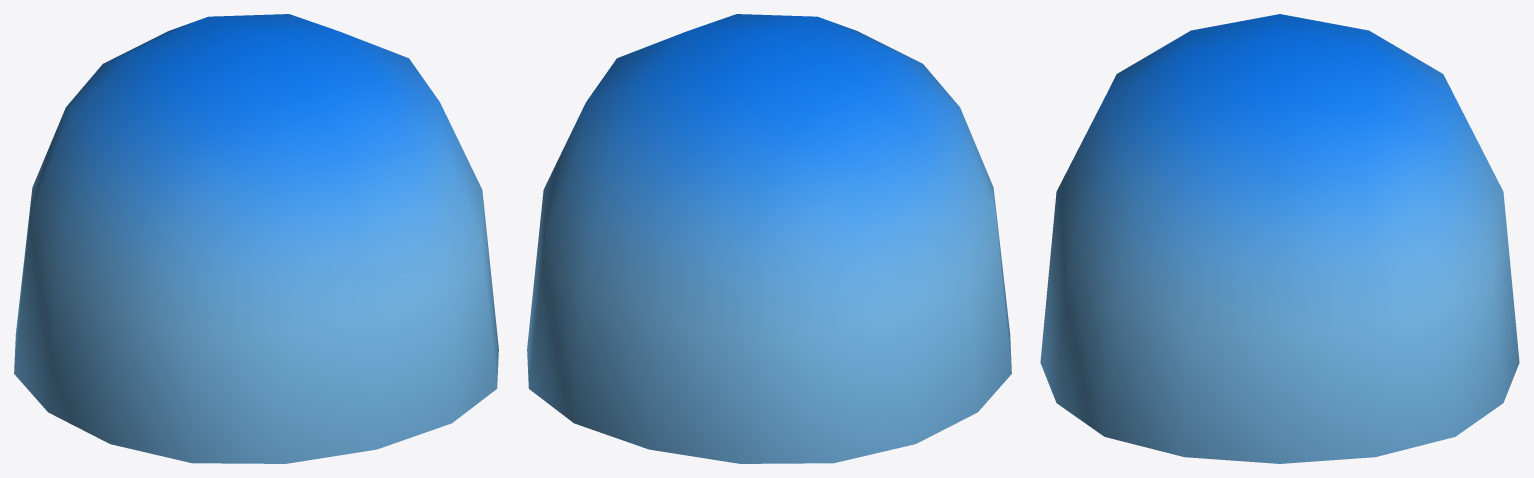
The model's file is skybox.fbx.
The picture shows the model from 3 angles, left to right: view 1: azimuth 30°, elevation 25°; view 2: azimuth 150°, elevation 25°; view 3: azimuth 270°, elevation 25°; orthographic projection.
Visible parts, largest first — view 1: Skybox; view 2: Skybox; view 3: Skybox.
Boxes of the visible parts, x1=… form: Skybox: x1=14, y1=14, x2=498, y2=463; Skybox: x1=527, y1=14, x2=1011, y2=463; Skybox: x1=1040, y1=14, x2=1519, y2=463.
Bounding box in the file's own units: 26354 × 19598 × 26354.
1 material, 1 textured.
